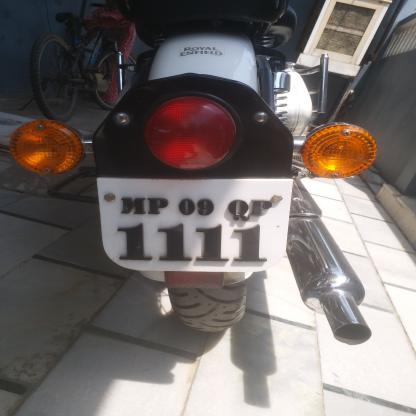Number_Plate_Detected: (102, 176, 290, 272)
